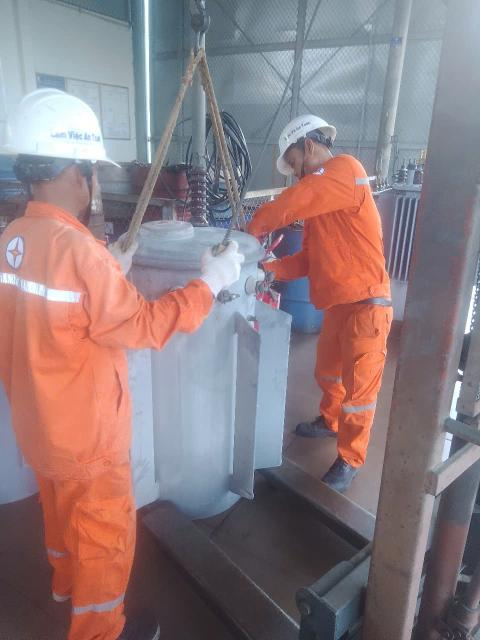gloves: (194, 239, 254, 301), (99, 233, 144, 278)
helmet: (0, 82, 136, 182), (266, 103, 343, 168)
shoes: (313, 441, 362, 492), (293, 414, 345, 443)
